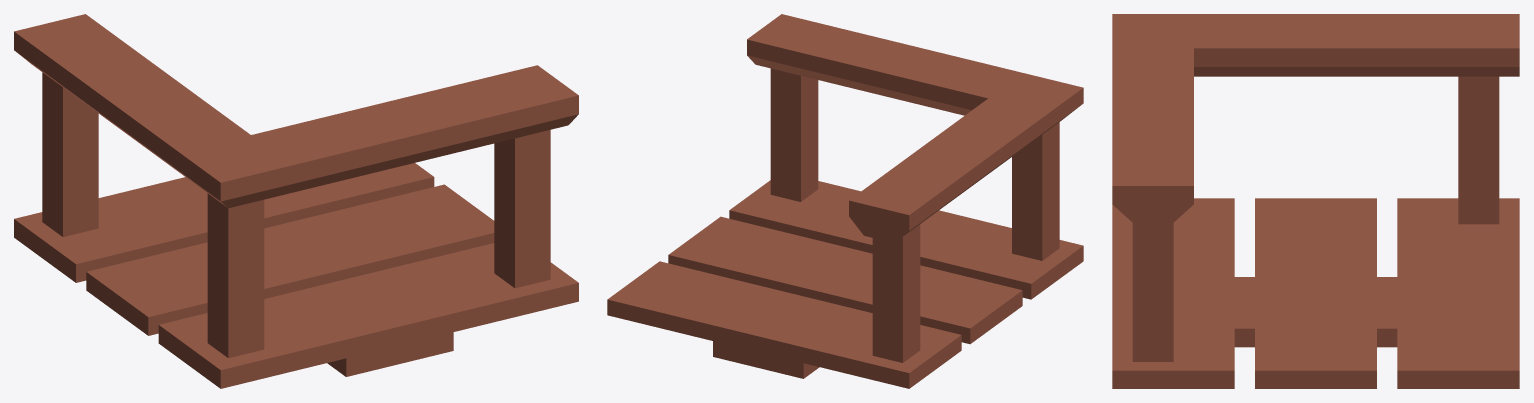
Rendered from scaffold_small_low_cornerRight 1.fbx.
The picture shows the model from 3 angles, left to right: view 1: azimuth 30°, elevation 25°; view 2: azimuth 150°, elevation 25°; view 3: azimuth 270°, elevation 25°; orthographic projection. The views are drawn at different scales.
Visible parts, largest first — view 1: scaffold_small_low_cornerRight; view 2: scaffold_small_low_cornerRight; view 3: scaffold_small_low_cornerRight.
Part boxes in pixels (left/top/right/bottom): scaffold_small_low_cornerRight: left=14, top=14, right=578, bottom=388; scaffold_small_low_cornerRight: left=607, top=14, right=1083, bottom=388; scaffold_small_low_cornerRight: left=1112, top=14, right=1519, bottom=388.
Bounding box in the file's own units: 200 × 120 × 200.
